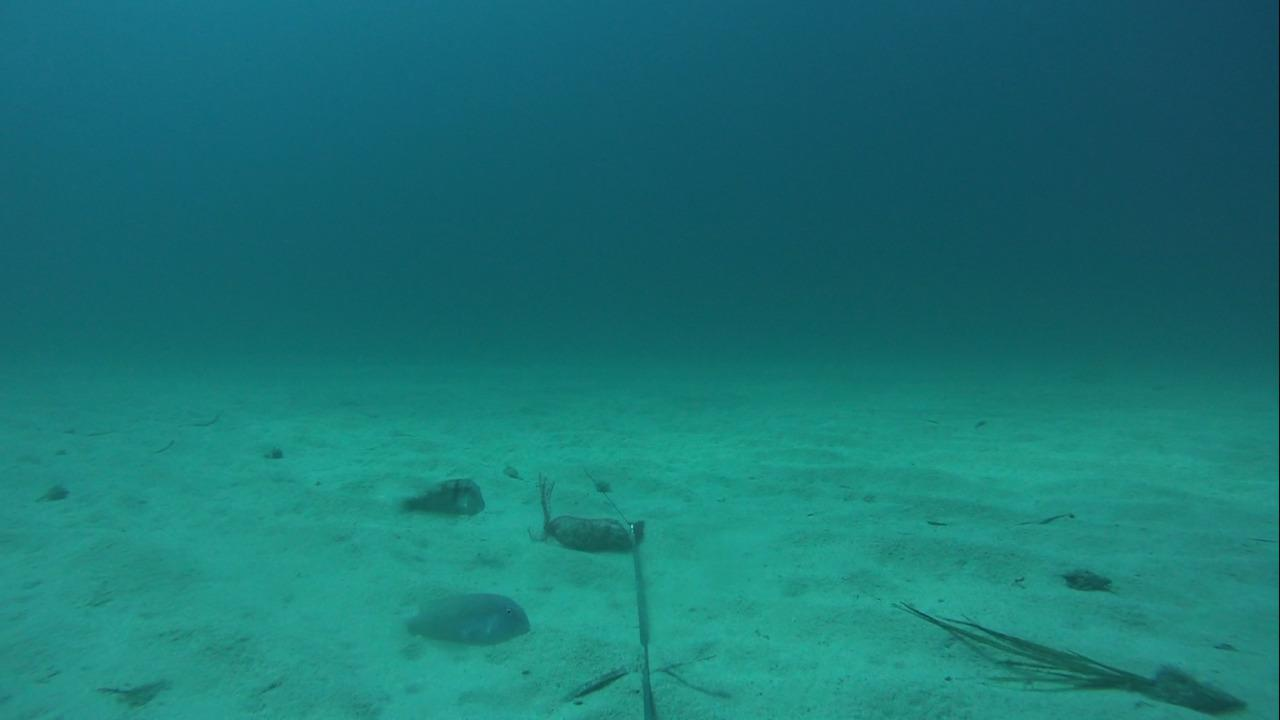raor: (400, 584, 533, 651), (398, 471, 488, 523)
